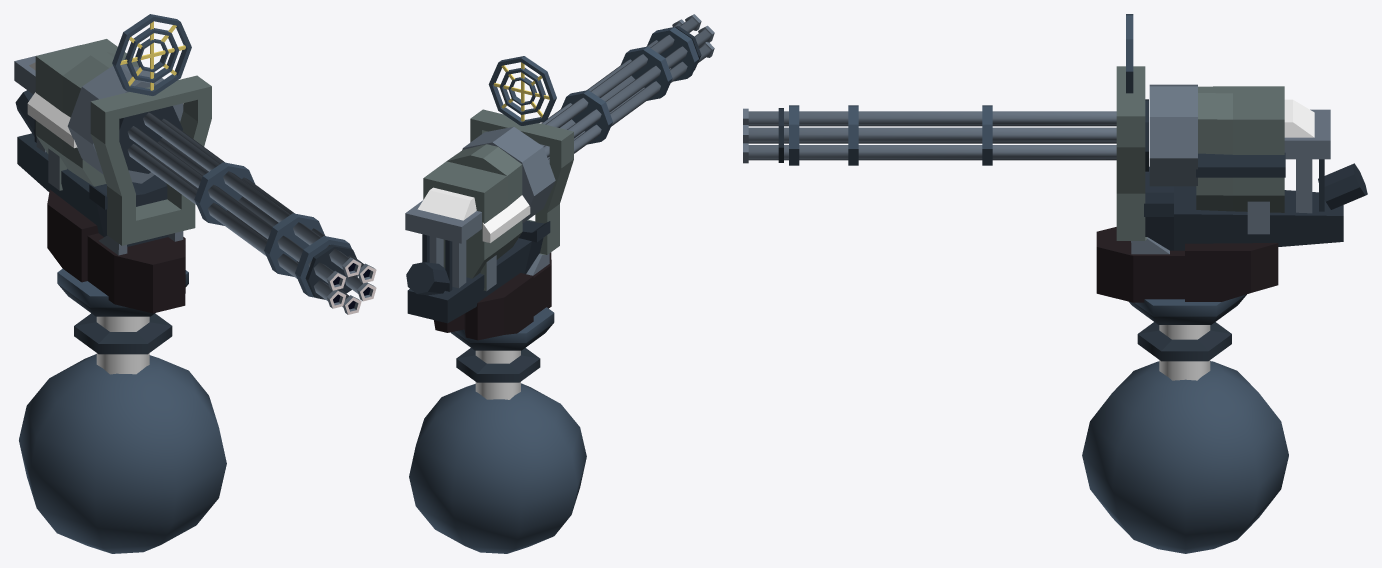
The model's file is GattlingTurret_Idle.fbx.
3 views of the same model, side by side, from view 1: azimuth 30°, elevation 25°; view 2: azimuth 150°, elevation 25°; view 3: azimuth 270°, elevation 25° (orthographic). The views are drawn at different scales.
Visible parts, largest first — view 1: Turret_Wheel, Turret_Main, Turret_Rotating_Barrels, Turret_Sight; view 2: Turret_Main, Turret_Wheel, Turret_Rotating_Barrels, Turret_Sight; view 3: Turret_Main, Turret_Wheel, Turret_Rotating_Barrels.
Boxes of the visible parts, left/top/right/bottom form: Turret_Wheel: left=19, top=268, right=226, bottom=553; Turret_Main: left=14, top=39, right=211, bottom=313; Turret_Rotating_Barrels: left=119, top=106, right=376, bottom=314; Turret_Sight: left=112, top=14, right=191, bottom=95; Turret_Main: left=405, top=109, right=573, bottom=340; Turret_Wheel: left=409, top=307, right=586, bottom=553; Turret_Rotating_Barrels: left=540, top=14, right=714, bottom=162; Turret_Sight: left=488, top=56, right=556, bottom=125; Turret_Main: left=1096, top=66, right=1367, bottom=302; Turret_Wheel: left=1082, top=294, right=1288, bottom=553; Turret_Rotating_Barrels: left=743, top=99, right=1148, bottom=171.
Size of the model in its own units: 646 by 1819 by 1949.
